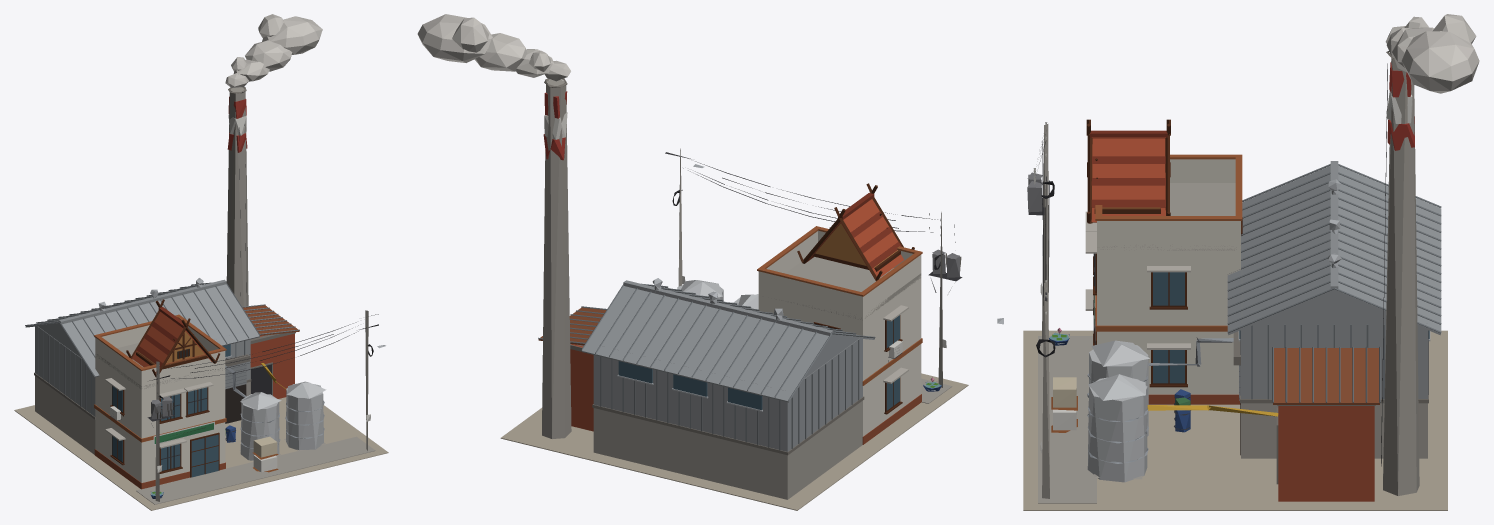
Rendered from factory_3.glb.
3 renders of one model, left to right at view 1: azimuth 30°, elevation 25°; view 2: azimuth 150°, elevation 25°; view 3: azimuth 270°, elevation 25°, orthographic. The views are drawn at different scales.
Parts seen in each view (by area): view 1: body, windows; view 2: body, windows; view 3: body, windows.
Boxes of the visible parts, left/top/right/bottom form: body: left=14, top=14, right=388, bottom=510; windows: left=112, top=344, right=246, bottom=477; body: left=417, top=14, right=968, bottom=510; windows: left=618, top=315, right=899, bottom=410; body: left=997, top=14, right=1479, bottom=510; windows: left=1095, top=220, right=1429, bottom=455.
Bounding box in the file's own units: 20.27 × 21.18 × 18.06.
